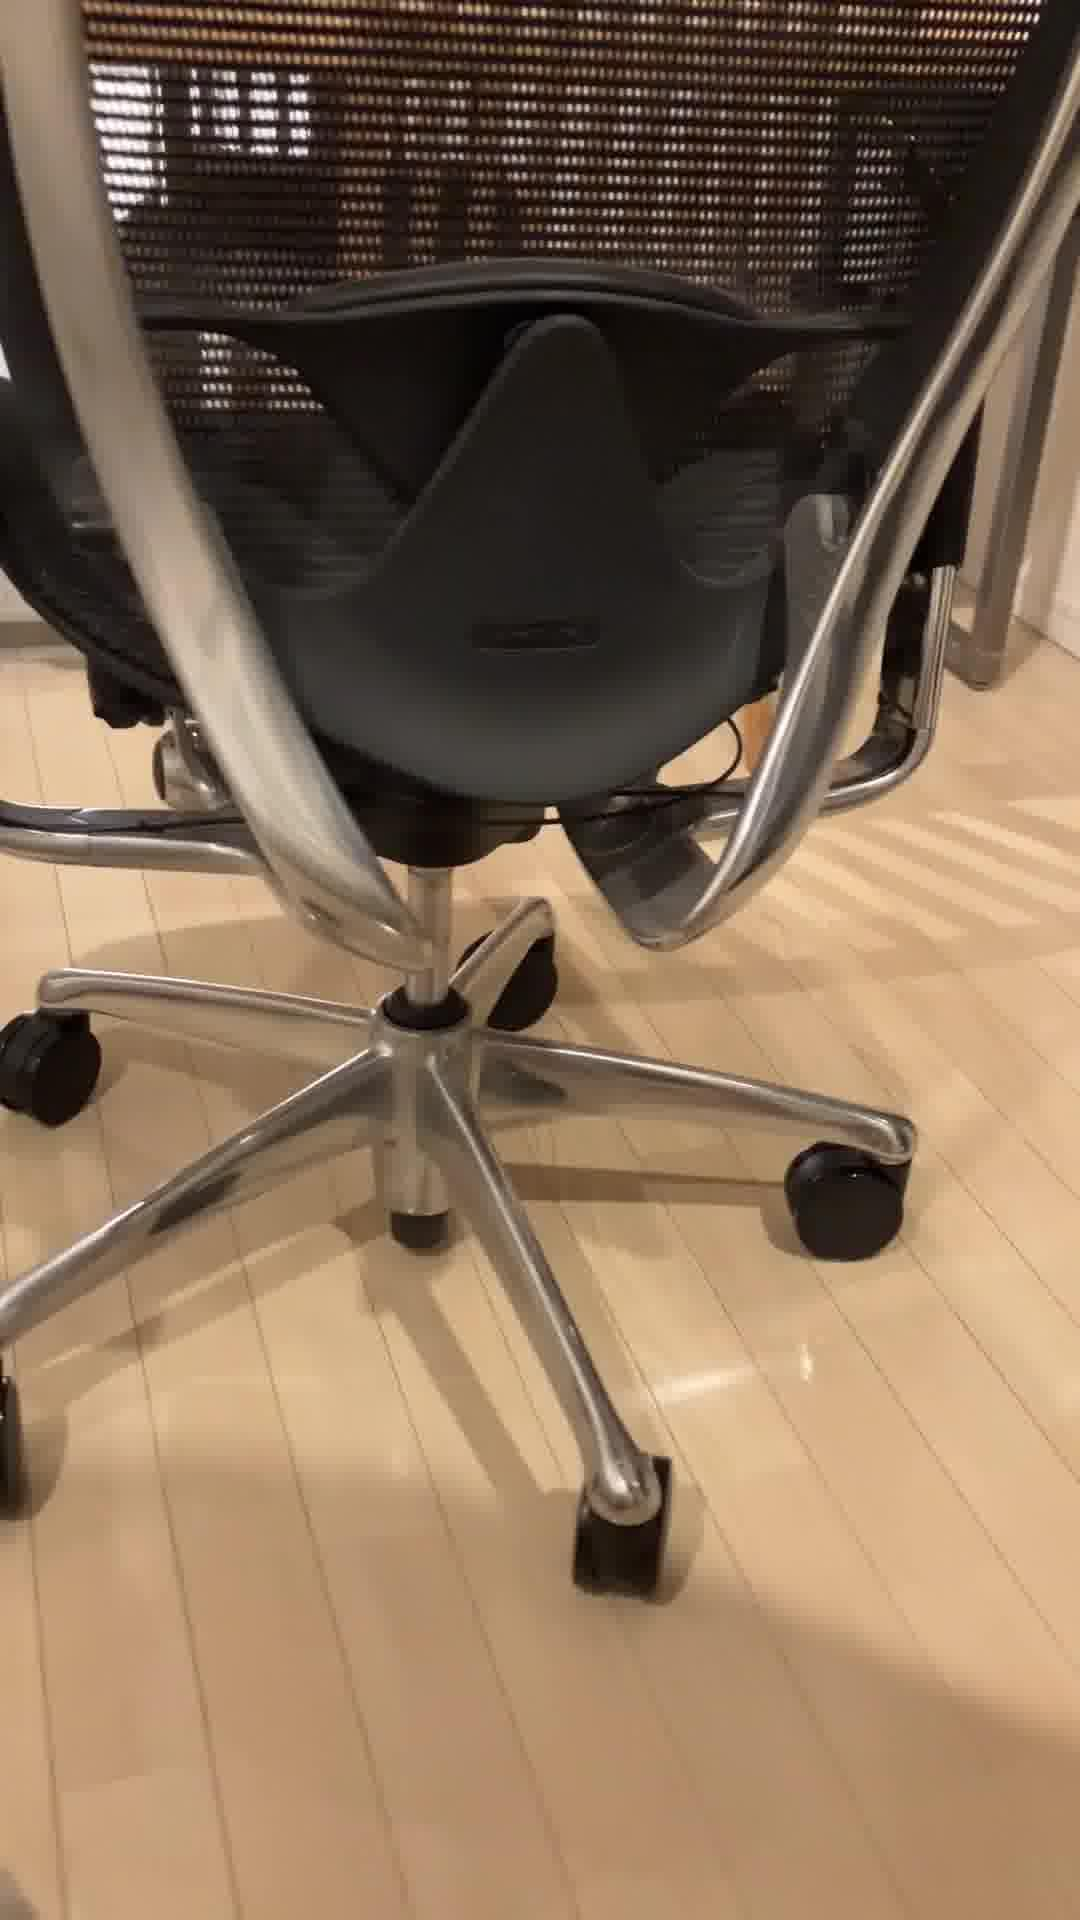okamura-contessa: (0, 0, 1080, 1611)
